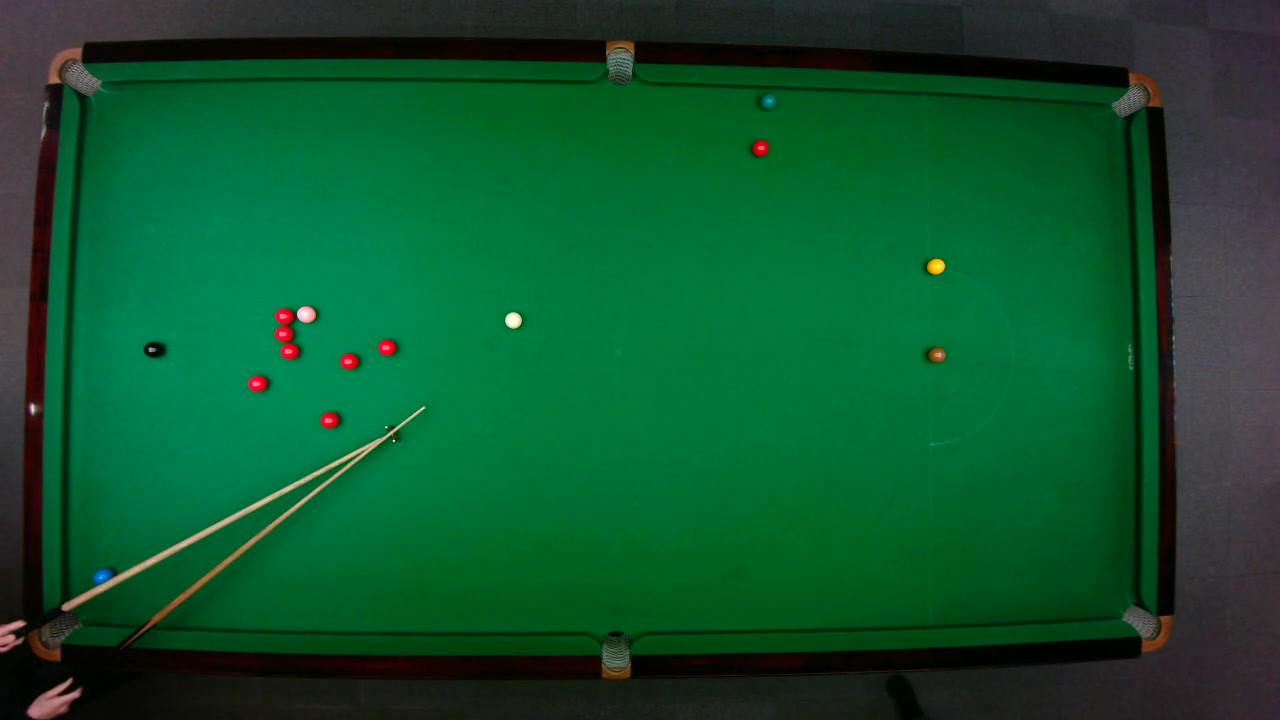bag: (25, 607, 83, 661), (45, 46, 102, 96), (1119, 602, 1171, 652), (1108, 71, 1161, 117), (600, 629, 629, 680), (605, 38, 633, 85)
black: (142, 340, 164, 358)
blue: (91, 567, 112, 583)
brown: (926, 346, 946, 362)
cue: (93, 401, 428, 650)
green: (759, 92, 776, 110)
pink: (294, 304, 317, 323)
red: (246, 374, 269, 392), (750, 138, 770, 157), (273, 306, 294, 324), (278, 342, 300, 359), (272, 325, 294, 342), (377, 338, 397, 356), (319, 411, 340, 428), (338, 352, 359, 369)
white: (503, 310, 522, 328)
yellow: (925, 257, 945, 274)
zone: (926, 264, 1013, 445)
